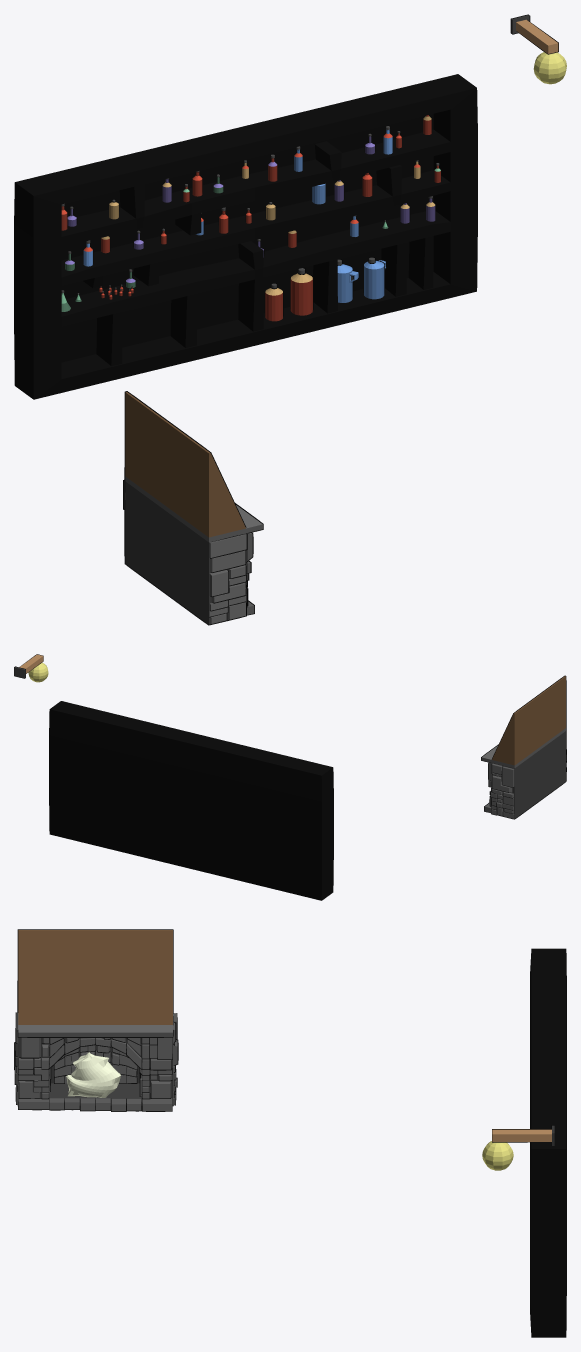
Rendered from BarExtra.fbx.
3 views of the same model, one above another, from view 1: azimuth 30°, elevation 25°; view 2: azimuth 150°, elevation 25°; view 3: azimuth 270°, elevation 25° (orthographic). The views are drawn at different scales.
Parts seen in each view (by area): view 1: Cube.001, Side_Wal, Light, bottle 3.003, bottle 4; view 2: Cube.001, Side_Wal, Light; view 3: Side_Wal, Cube.001, Light.
Part boxes in pixels (x1,y1,x2,y2): Cube.001: (14, 74, 477, 399); Side_Wal: (123, 391, 263, 625); Light: (510, 14, 566, 84); bottle 3.003: (290, 267, 313, 315); bottle 4: (363, 256, 386, 299); Cube.001: (49, 701, 333, 900); Side_Wal: (481, 675, 566, 819); Light: (14, 654, 48, 682); Side_Wal: (14, 929, 178, 1111); Cube.001: (530, 948, 566, 1337); Light: (482, 1125, 554, 1170).
Size of the model in its own units: 5994 by 2348 by 5037.
